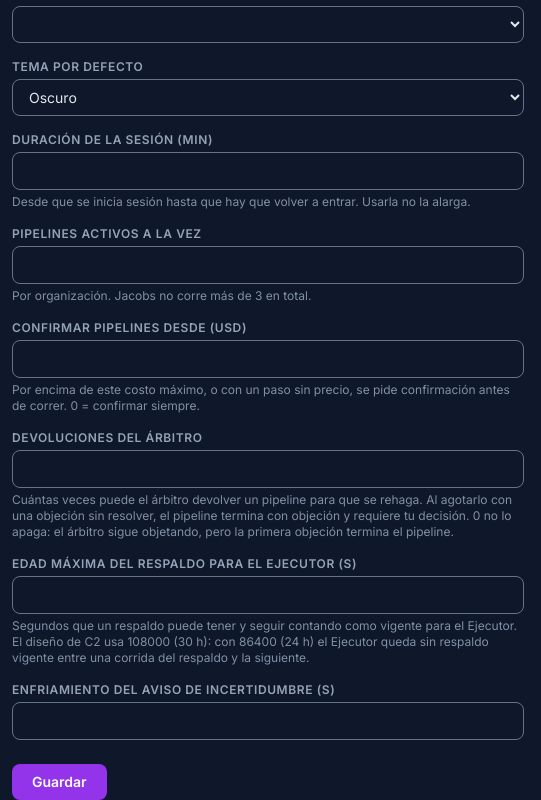
Scenario: AdminSettings -- los errores del guardado se ven › una clave reservada se nombra
The image size is (541, 800).
(page scrolled)
Click the button "Guardar": (59,782) [12,764,107,799]
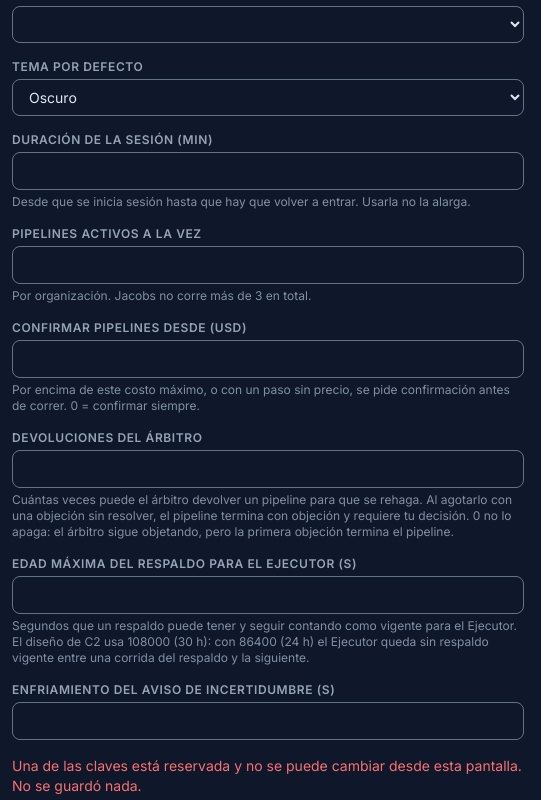
Check: the message shows "Una de las claves está reservada y no se puede cambiar desde esta pantalla. No se guardó nada.", box [12,757,522,794]
